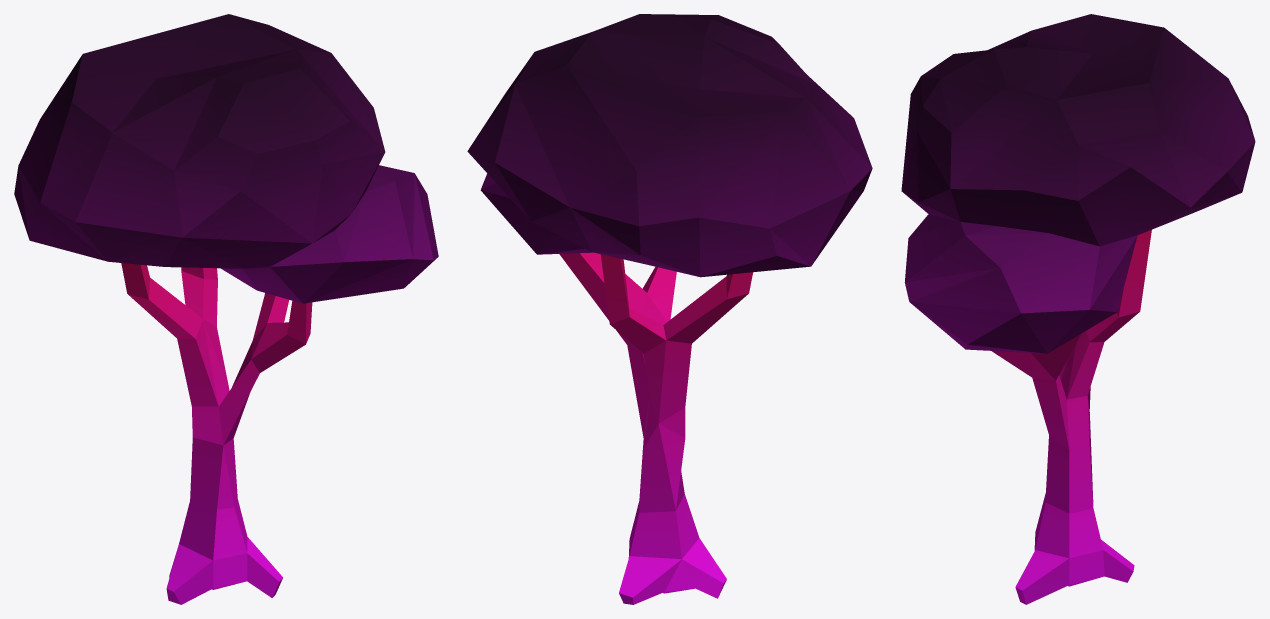
Rendered from SM_Env_Tree_Peach_01.fbx.
The picture shows the model from 3 angles, left to right: view 1: azimuth 30°, elevation 25°; view 2: azimuth 150°, elevation 25°; view 3: azimuth 270°, elevation 25°; orthographic projection. The views are drawn at different scales.
Parts seen in each view (by area): view 1: SM_Env_Tree_Peach_01; view 2: SM_Env_Tree_Peach_01; view 3: SM_Env_Tree_Peach_01.
Boxes of the visible parts, left/top/right/bottom form: SM_Env_Tree_Peach_01: left=14, top=14, right=438, bottom=604; SM_Env_Tree_Peach_01: left=467, top=14, right=872, bottom=604; SM_Env_Tree_Peach_01: left=901, top=14, right=1255, bottom=604.
Bounding box in the file's own units: 324 × 451 × 271.
